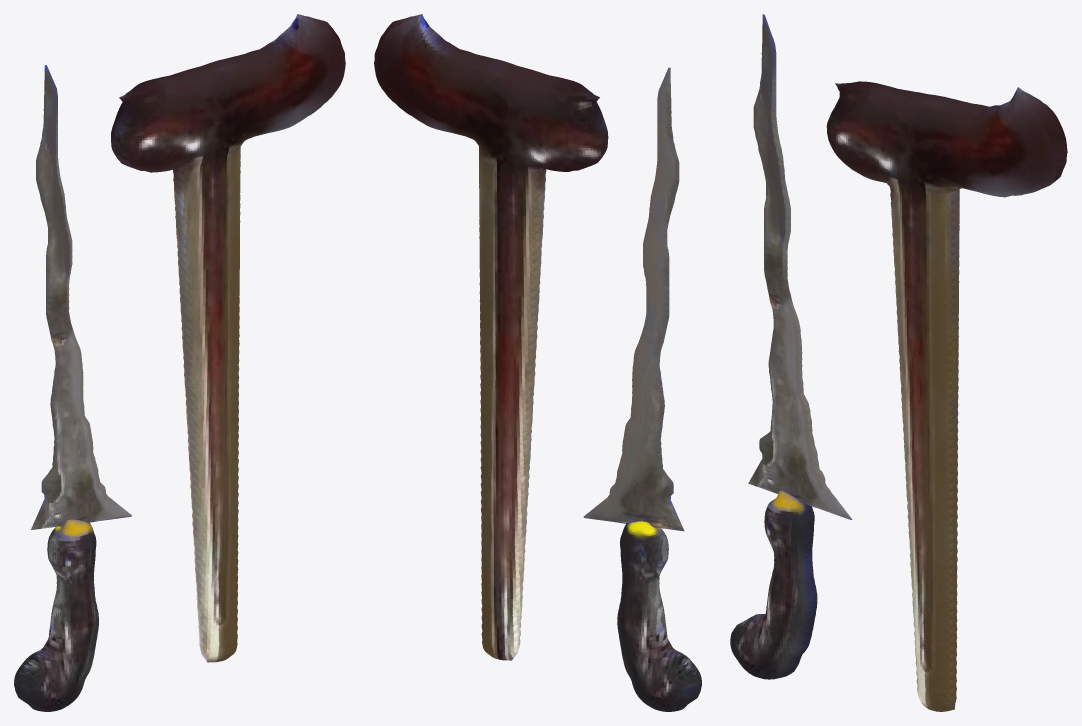
File: keris-surakarta.glb
3 views of the same model, side by side, from view 1: azimuth 30°, elevation 25°; view 2: azimuth 150°, elevation 25°; view 3: azimuth 330°, elevation 25° (orthographic). The views are drawn at different scales.
Parts seen in each view (by area): view 1: root_Material_136_0, root_Material_132_0, root_Material_134_0; view 2: root_Material_136_0, root_Material_132_0, root_Material_134_0; view 3: root_Material_136_0, root_Material_132_0, root_Material_134_0.
Part boxes in pixels (x1,y1,x2,y2): root_Material_136_0: (111, 14, 345, 662); root_Material_132_0: (31, 65, 131, 529); root_Material_134_0: (14, 519, 98, 711); root_Material_136_0: (374, 14, 608, 660); root_Material_132_0: (583, 67, 684, 531); root_Material_134_0: (617, 521, 701, 711); root_Material_136_0: (826, 81, 1067, 711); root_Material_132_0: (748, 14, 852, 519); root_Material_134_0: (730, 490, 817, 679).
Size of the model in its own units: 0.1435 by 0.2719 by 0.0206.
3 materials, 3 textured.
